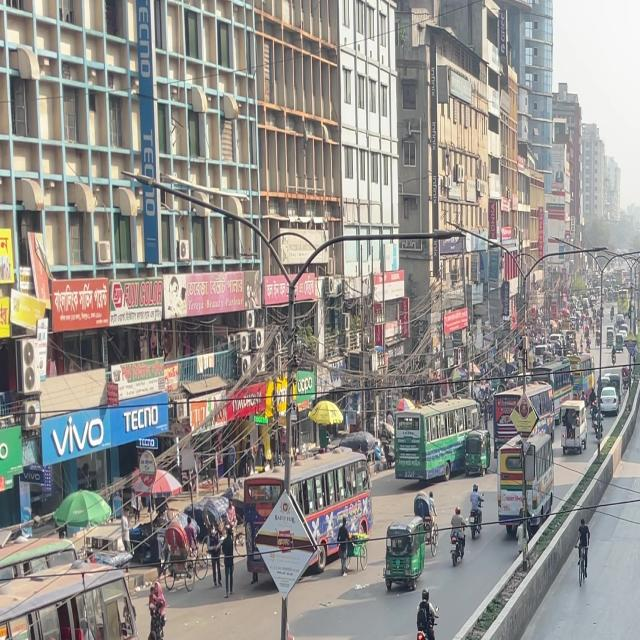bus: (237, 438, 378, 565), (0, 552, 143, 640)
car: (598, 384, 620, 414)
motorbike: (414, 583, 441, 640), (448, 502, 468, 570), (470, 481, 487, 542)
rickshaw: (380, 512, 428, 593)
van: (392, 400, 480, 485), (494, 424, 558, 535), (554, 396, 591, 458), (575, 538, 591, 590)
